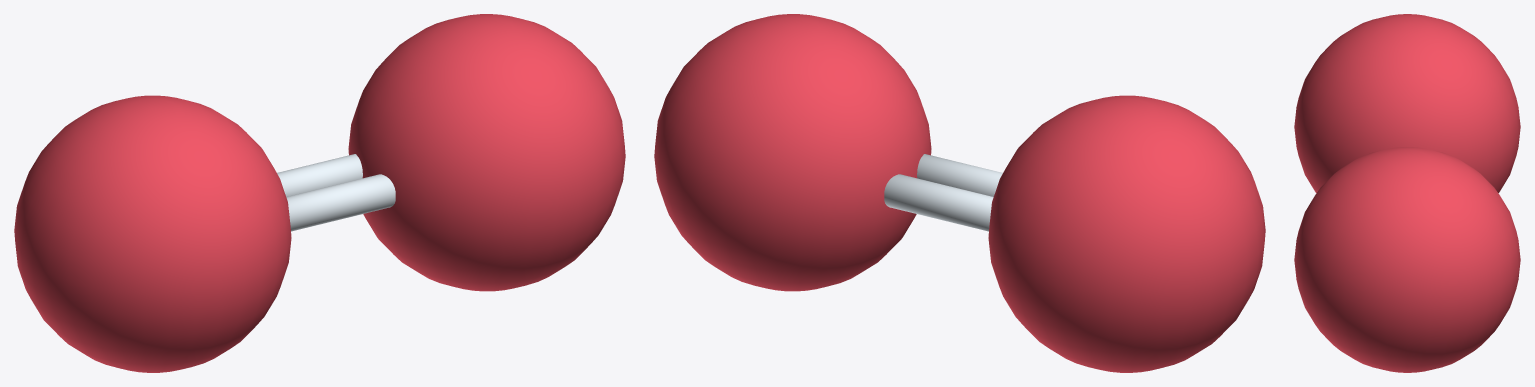
File: oxygen-molecule-quality.glb
3 renders of one model, left to right at view 1: azimuth 30°, elevation 25°; view 2: azimuth 150°, elevation 25°; view 3: azimuth 270°, elevation 25°, orthographic. The views are drawn at different scales.
Visible parts, largest first — view 1: Atom; view 2: Atom; view 3: Atom.
Boxes of the visible parts, <box> form: Atom: <box>14,14,625,372</box>; Atom: <box>654,14,1265,372</box>; Atom: <box>1294,14,1520,372</box>.
Size of the model in its own units: 1.72 by 0.72 by 0.72.
